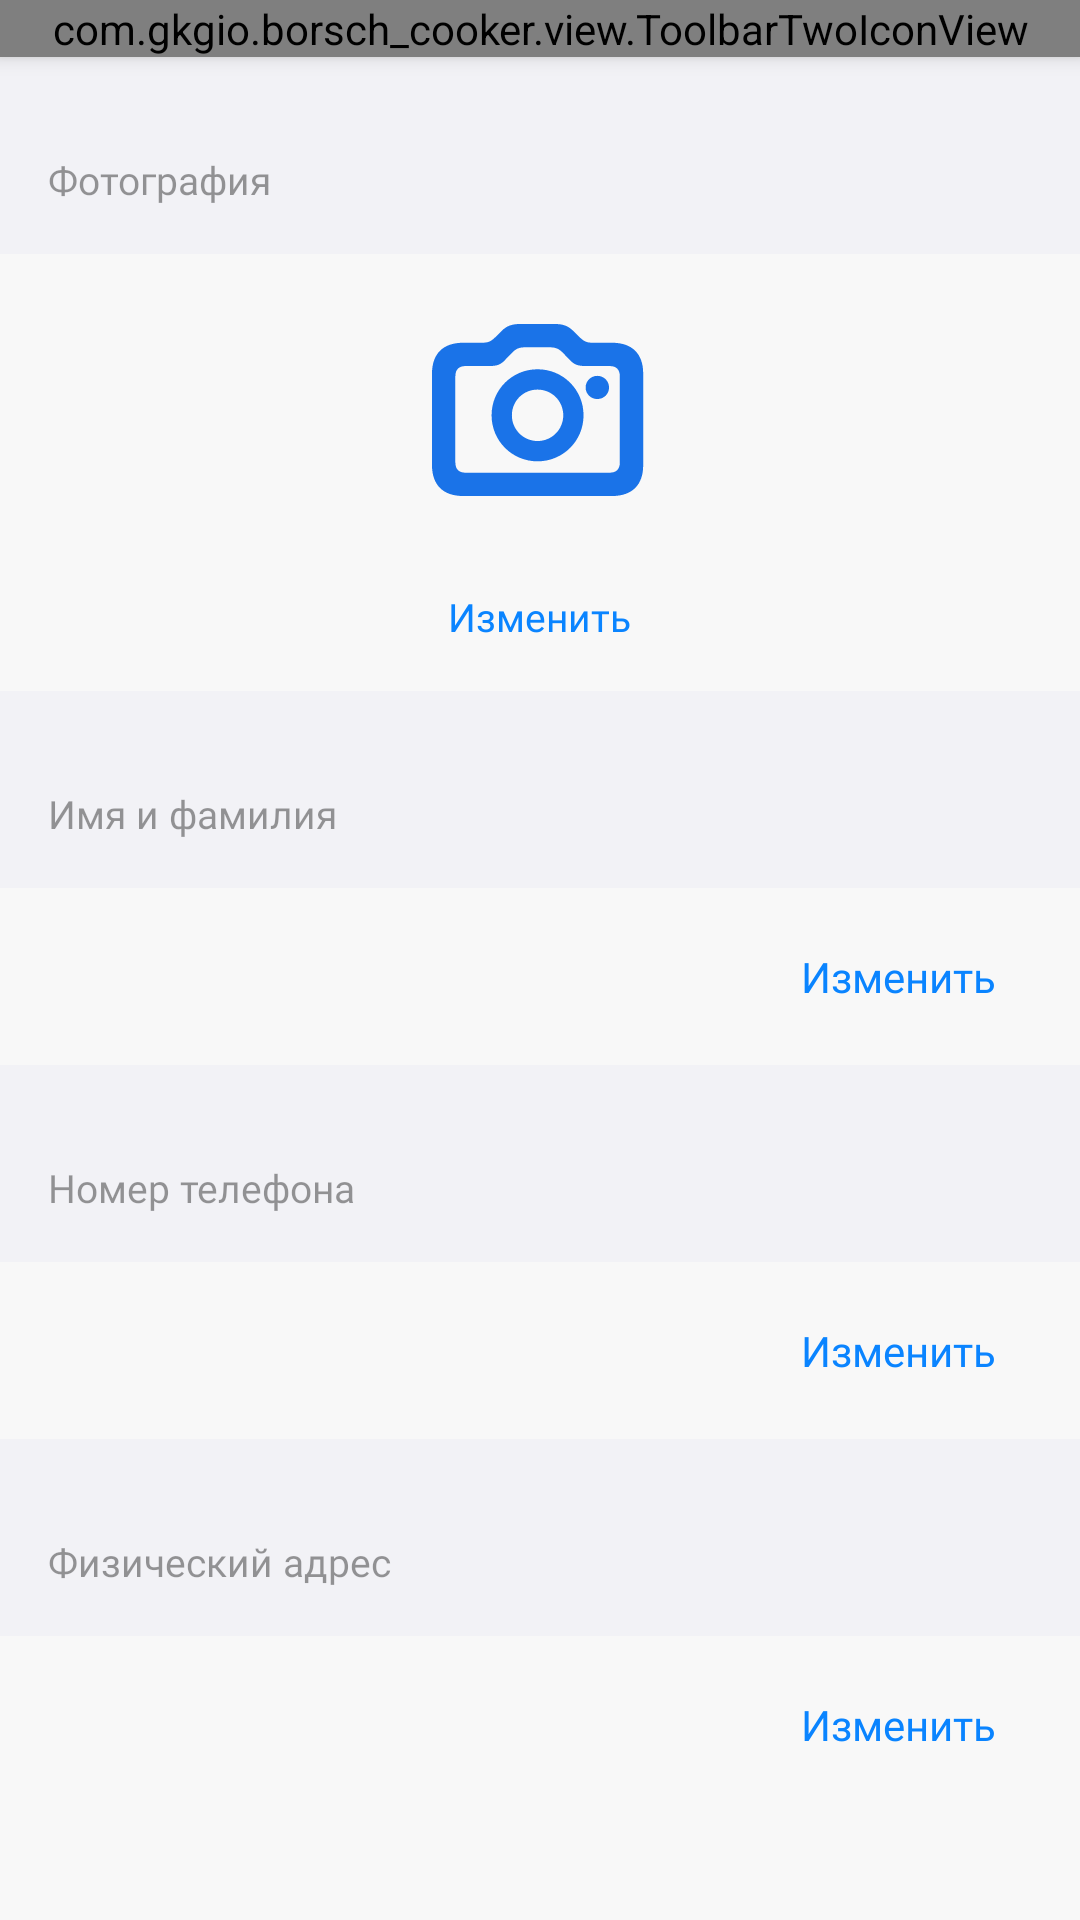

Named icons in this screenshot (1080px×1920px) and their bounding boxes, BBox(x1, y1, x2, y2):
photo: BBox(432, 324, 644, 496)
